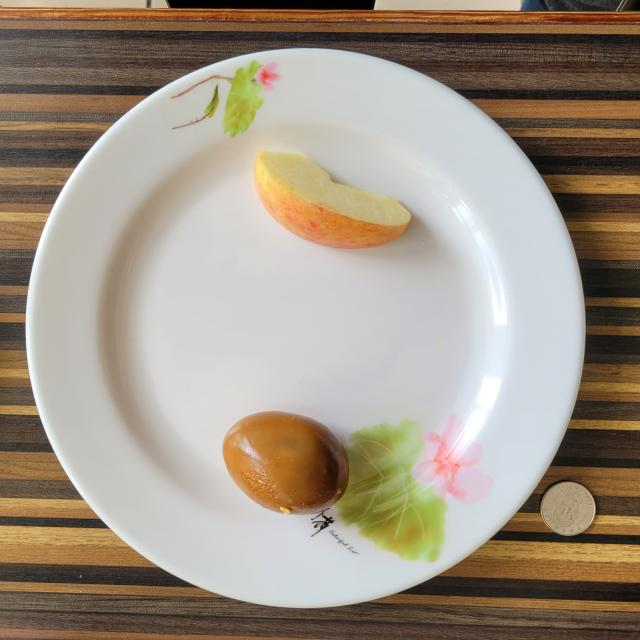apple -sliced-: (254, 150, 411, 249)
coin: (540, 481, 595, 536)
soy egg: (222, 411, 349, 514)
